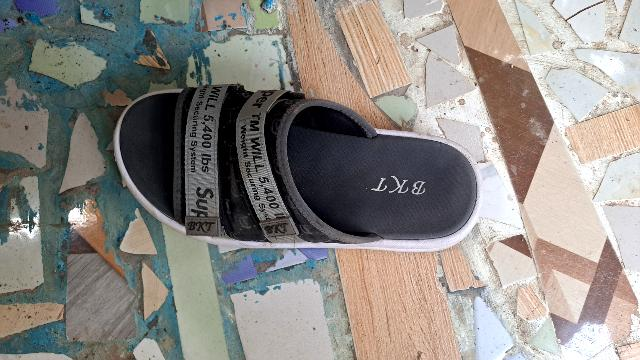sandal: (95, 67, 492, 295)
